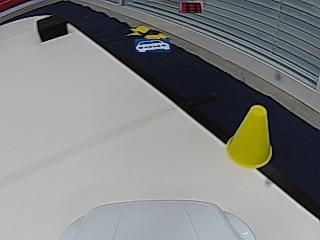block: (36, 14, 68, 42)
cone: (227, 106, 272, 168)
